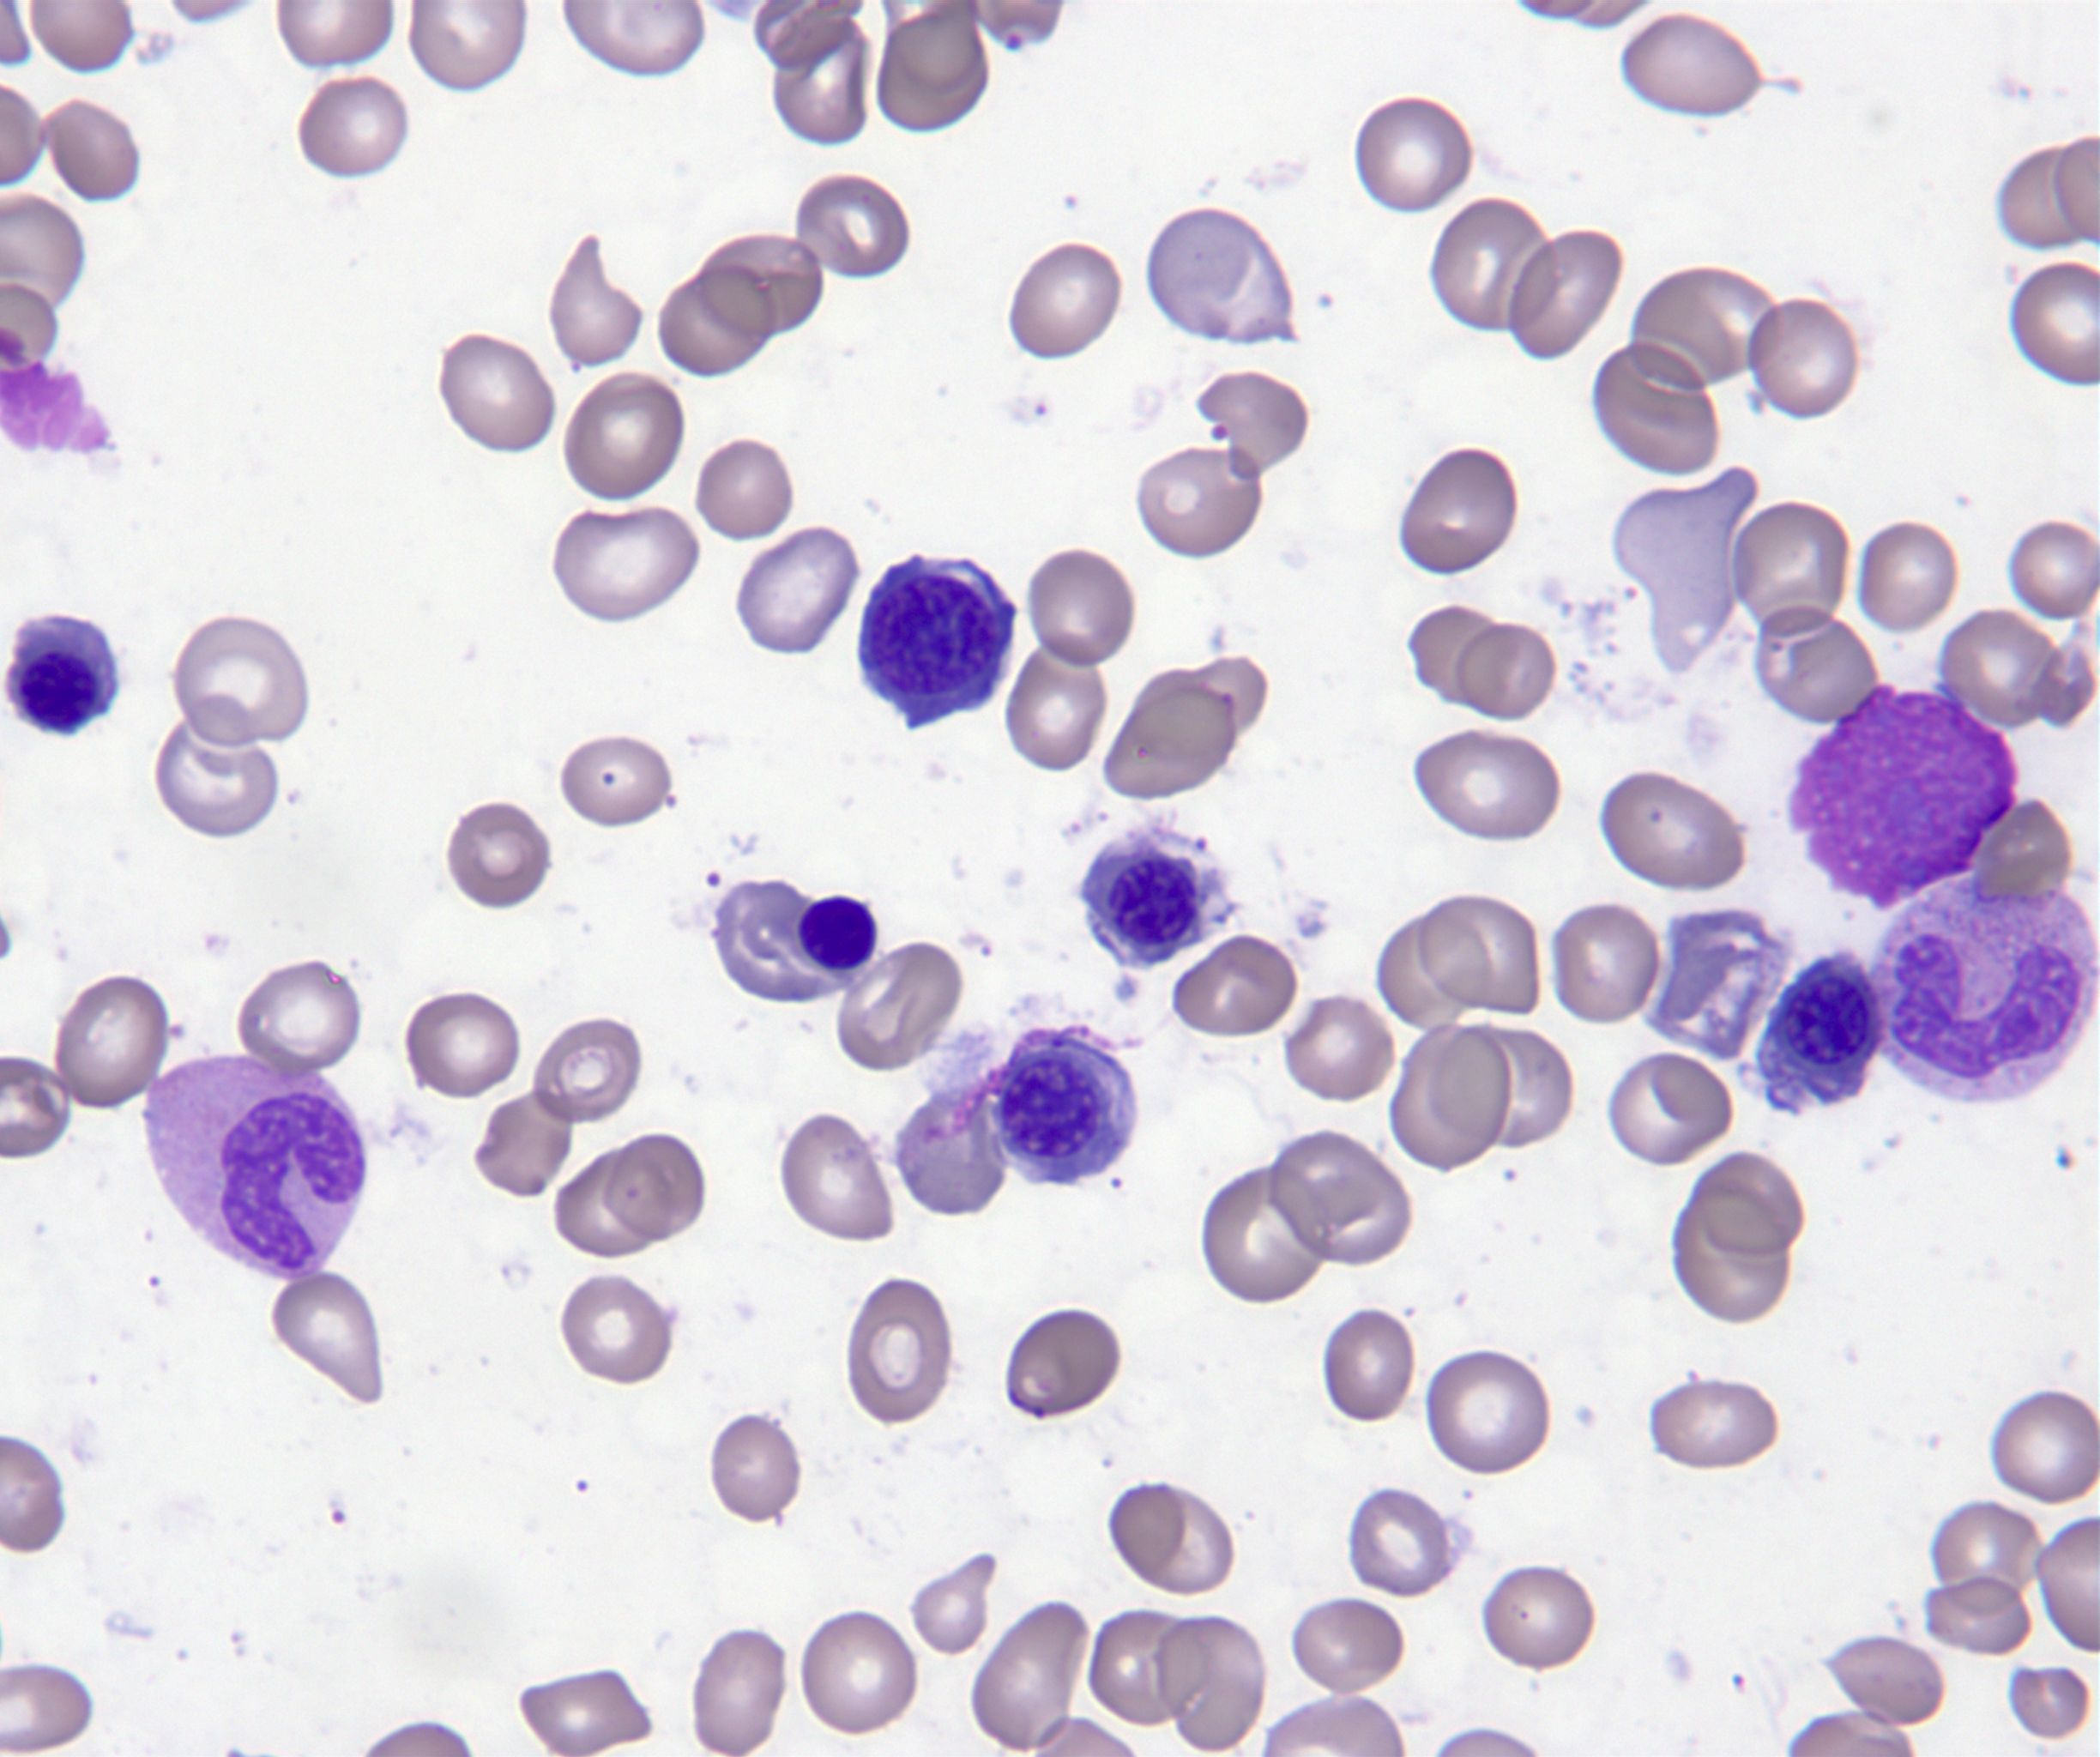23: (855, 557, 1015, 728)
24: (1076, 824, 1235, 970), (989, 1031, 1137, 1185), (1755, 954, 1880, 1120), (717, 881, 877, 1002), (3, 616, 119, 736)
5: (1866, 876, 2100, 1106), (147, 1059, 366, 1282)
x: (1793, 689, 2018, 909)
